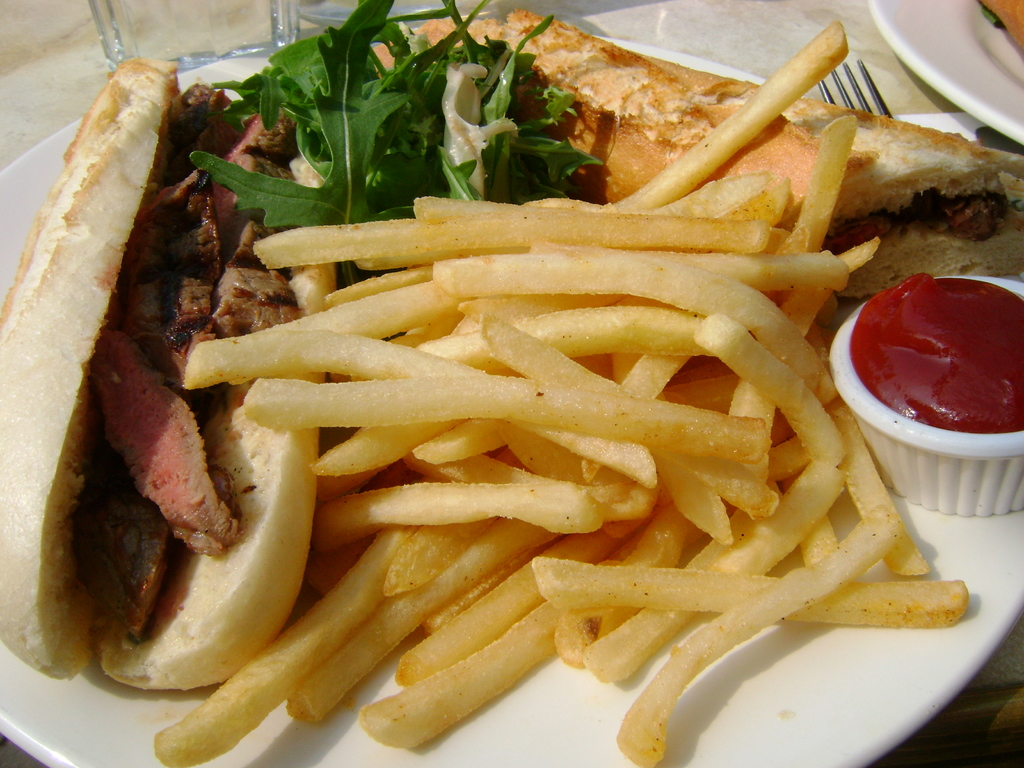French fries: (102, 108, 958, 739)
